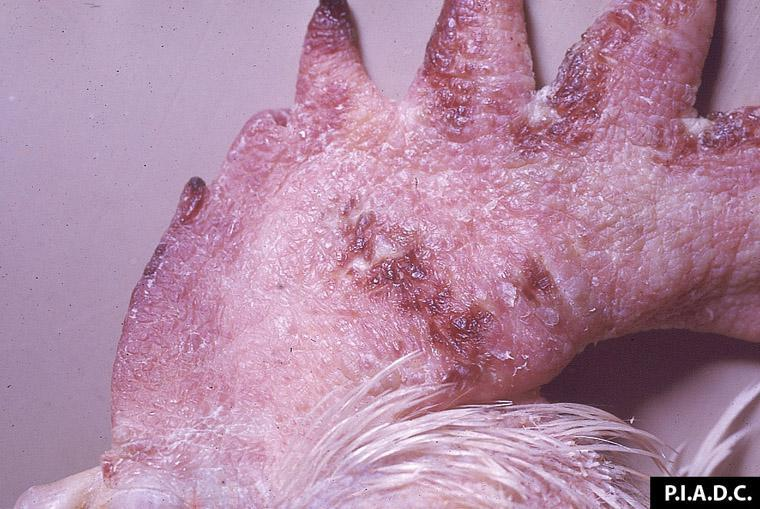AbNormal: (16, 1, 760, 509)
